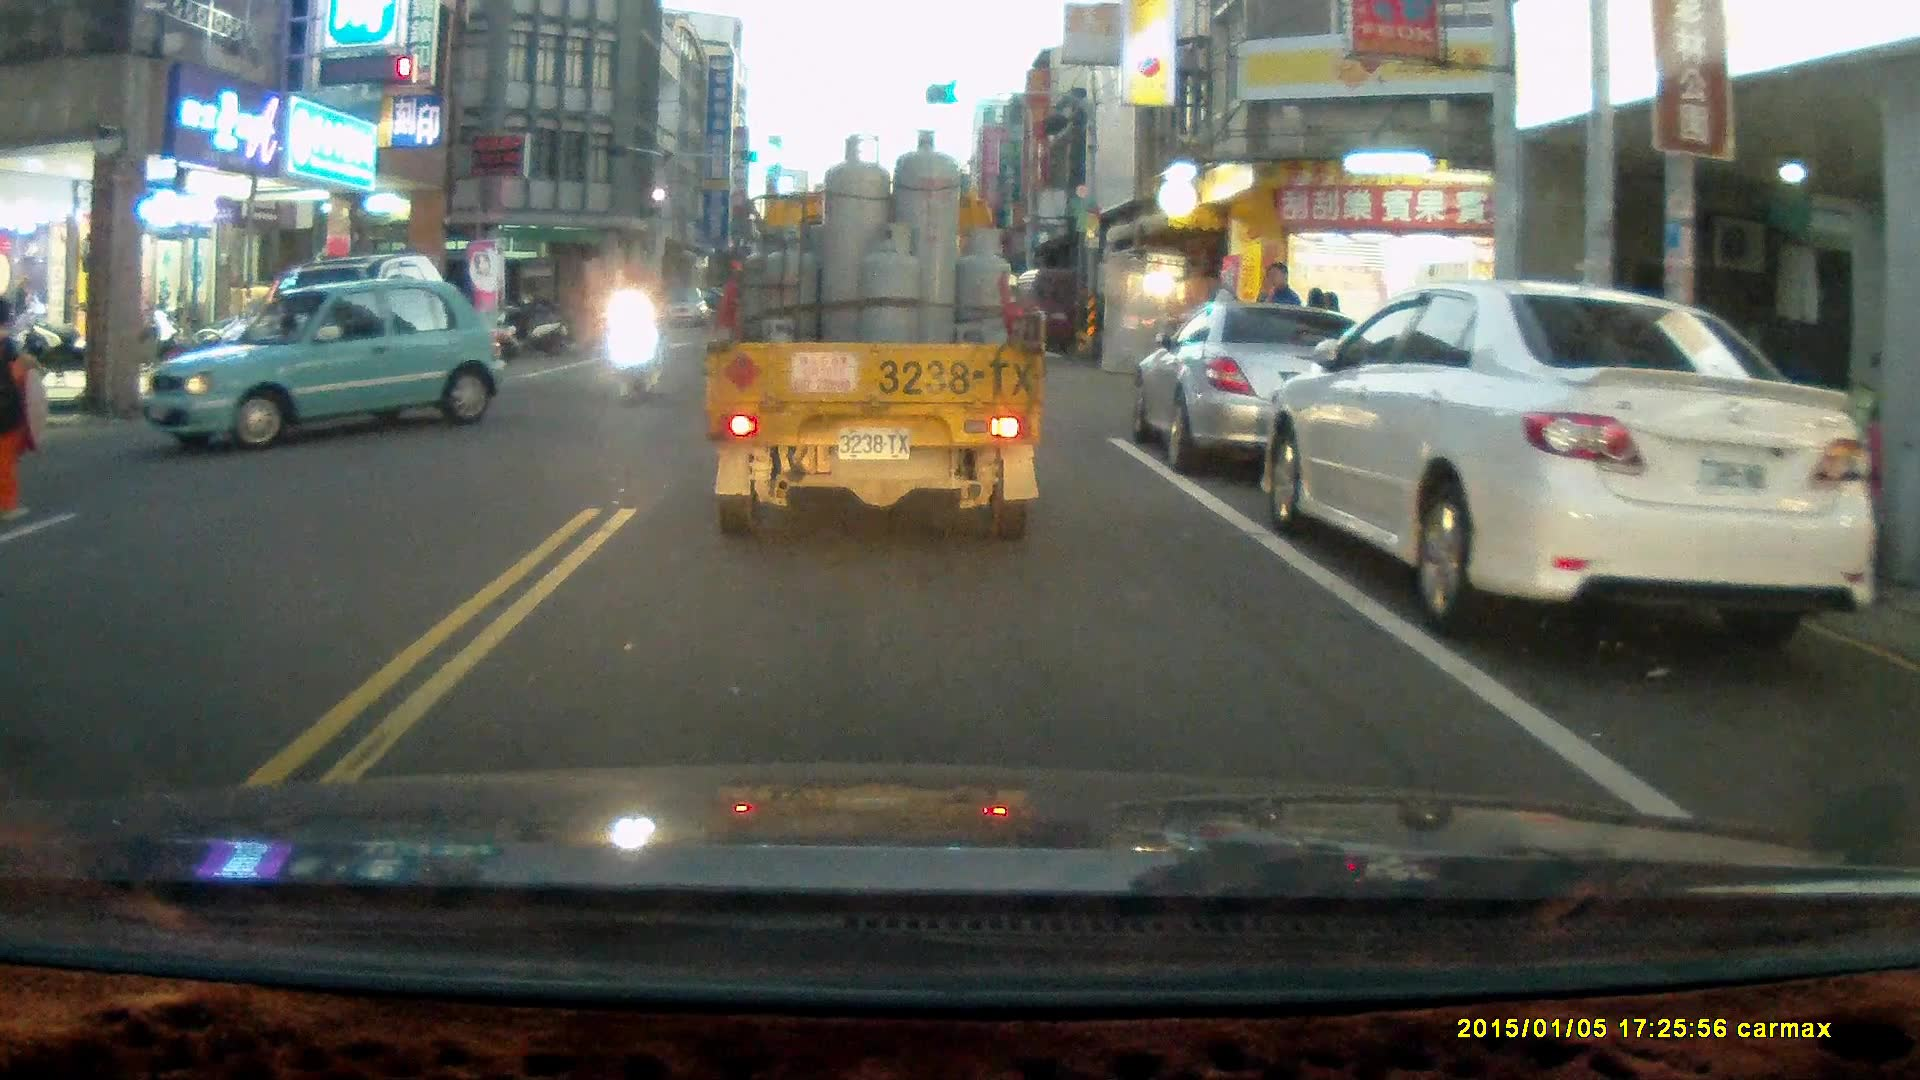pedestrian: (0, 294, 50, 524)
rider: (612, 269, 661, 410)
vehicle: (1261, 282, 1884, 645), (703, 129, 1050, 541), (143, 281, 509, 453), (1136, 299, 1387, 474), (1008, 268, 1097, 358)
